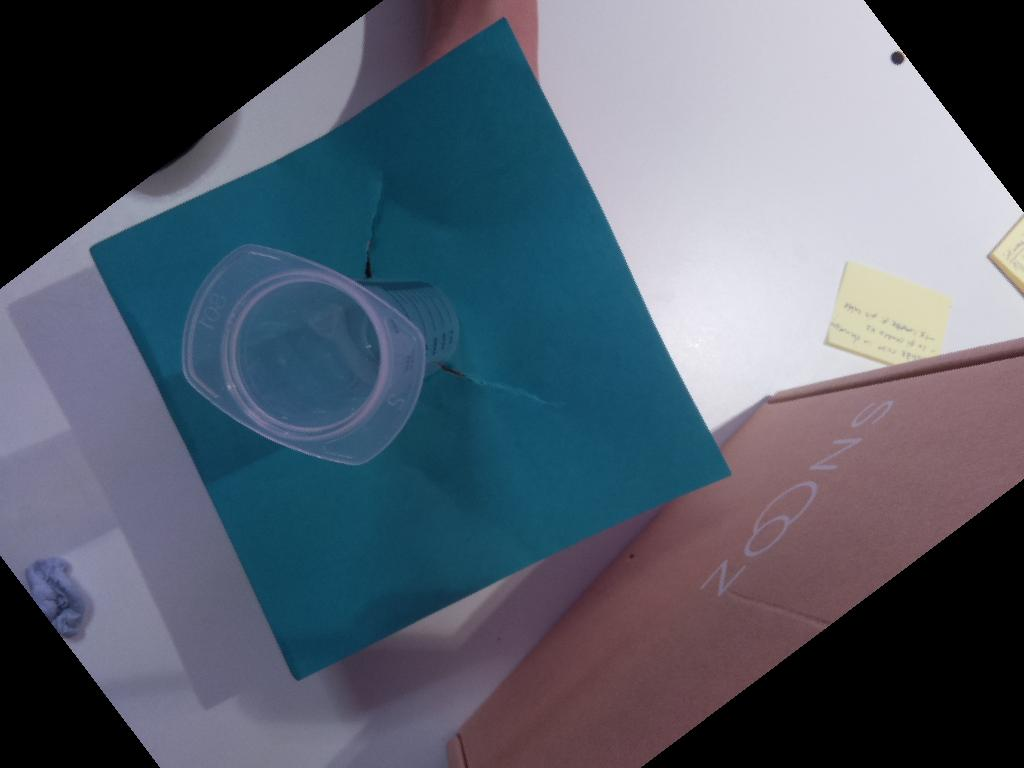clean: (178, 240, 431, 469)
